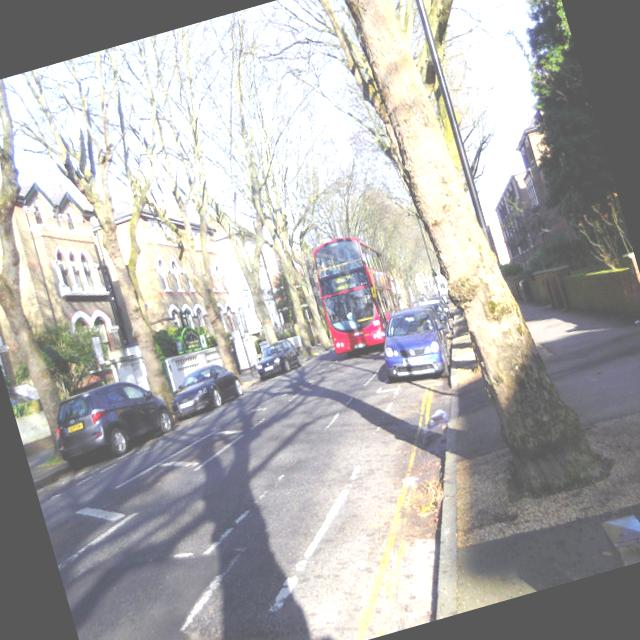Vehicle: (303, 225, 412, 360), (45, 368, 179, 472), (371, 300, 456, 390), (162, 357, 248, 421), (250, 337, 304, 382), (410, 298, 452, 341), (426, 292, 452, 322)
